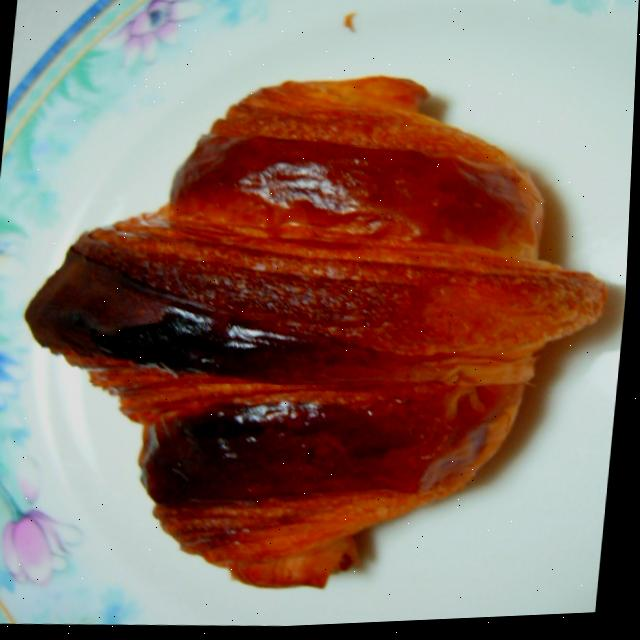面包点心: (0, 46, 637, 631)
